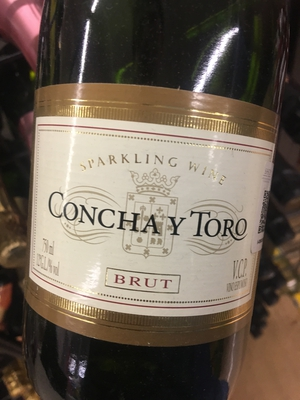brut: (25, 17, 294, 392)
